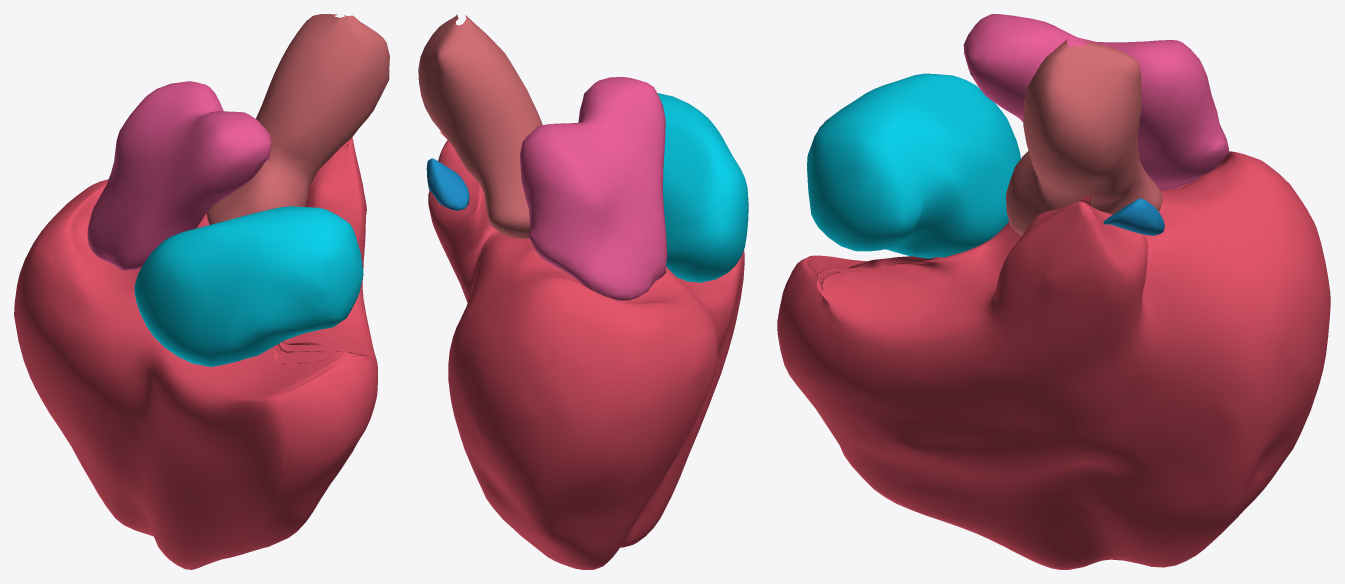
Rendered from frame_38.glb.
3 renders of one model, left to right at view 1: azimuth 30°, elevation 25°; view 2: azimuth 150°, elevation 25°; view 3: azimuth 270°, elevation 25°, orthographic. The views are drawn at different scales.
Visible parts, largest first — view 1: Renderer Node; view 2: Renderer Node; view 3: Renderer Node.
Part boxes in pixels (x1,y1,x2,y2): Renderer Node: (14, 14, 389, 569); Renderer Node: (418, 14, 748, 569); Renderer Node: (777, 14, 1330, 569).
Size of the model in its own units: 104 by 161 by 129.
